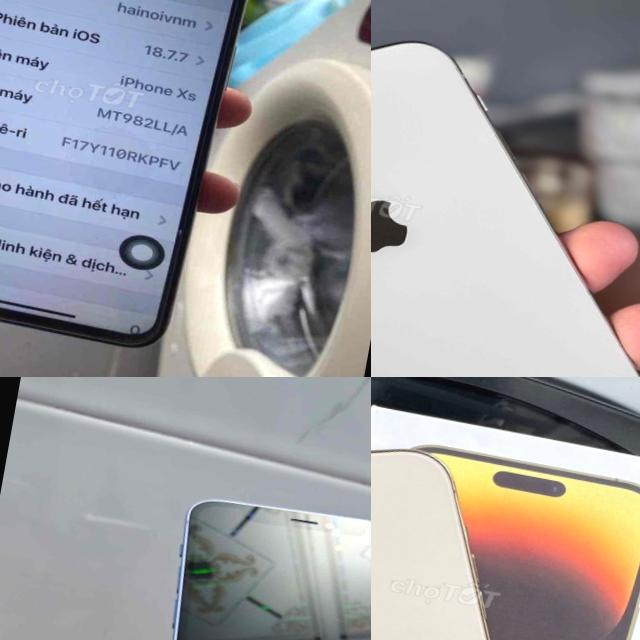gen_12_13: (111, 478, 371, 640)
gen_14: (371, 406, 590, 640)
gen_x_xs: (0, 0, 260, 369), (371, 42, 639, 377)
